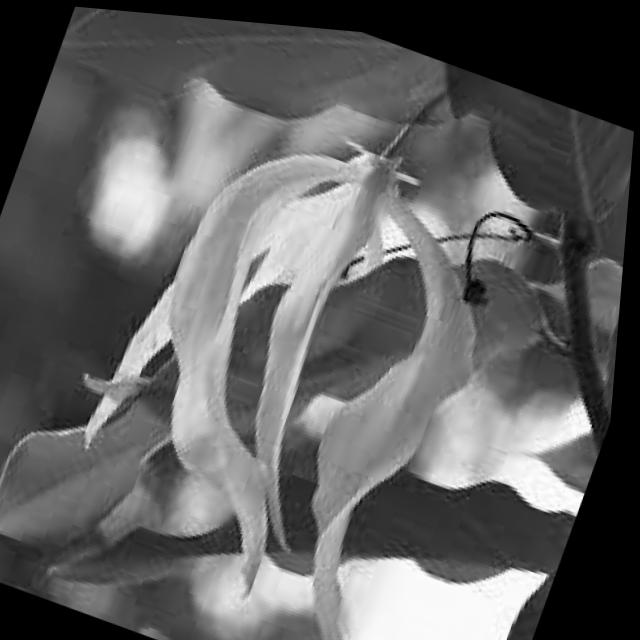Flower: (66, 58, 542, 640)
